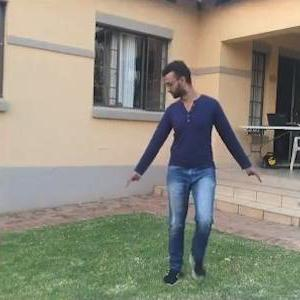land: (128, 68, 255, 284)
